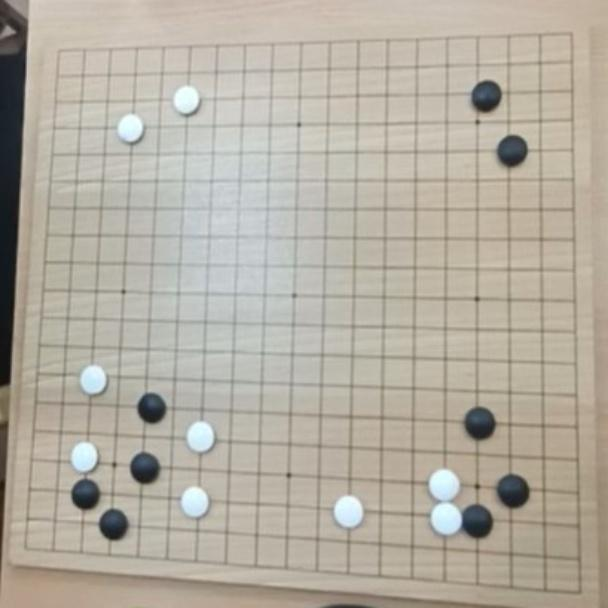corners: (554, 563, 599, 606), (546, 18, 592, 58), (9, 522, 51, 560), (46, 39, 79, 73)
